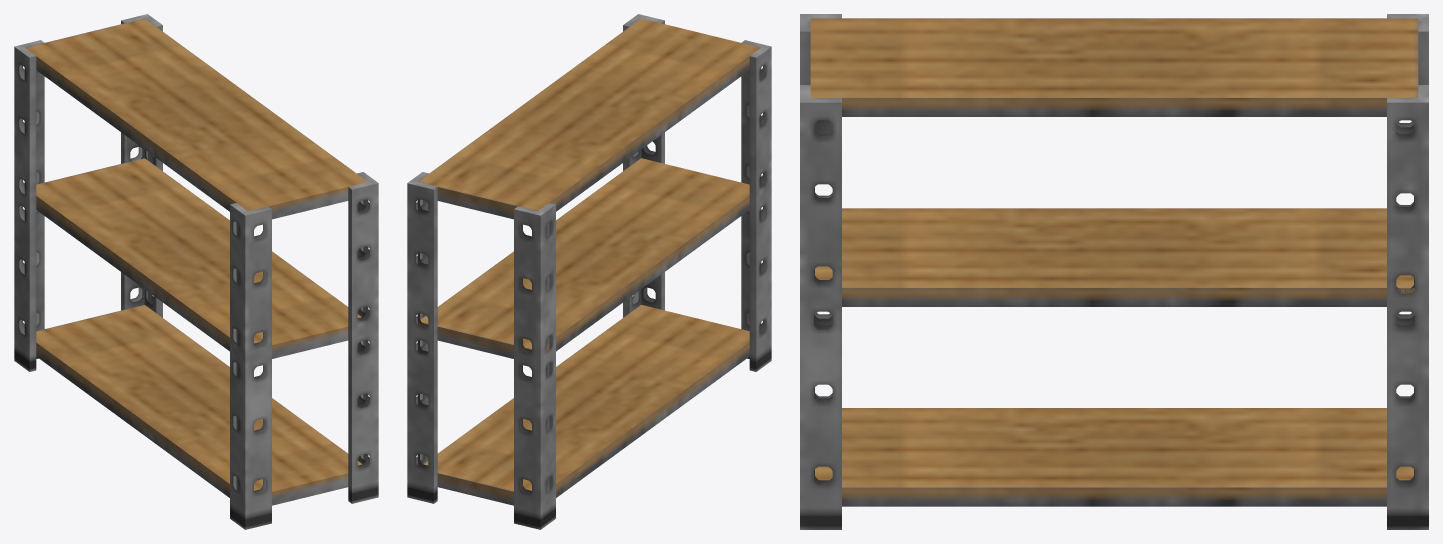
The model's file is shelf_3.obj.
3 renders of one model, left to right at view 1: azimuth 30°, elevation 25°; view 2: azimuth 150°, elevation 25°; view 3: azimuth 270°, elevation 25°, orthographic. The views are drawn at different scales.
Parts seen in each view (by area): view 1: 3_shelfs; view 2: 3_shelfs; view 3: 3_shelfs.
Part boxes in pixels (x1=…): 3_shelfs: x1=14, y1=14, x2=378, y2=529; 3_shelfs: x1=407, y1=14, x2=771, y2=529; 3_shelfs: x1=800, y1=14, x2=1428, y2=529.
Bounding box in the file's own units: 1 × 2.25 × 3.
